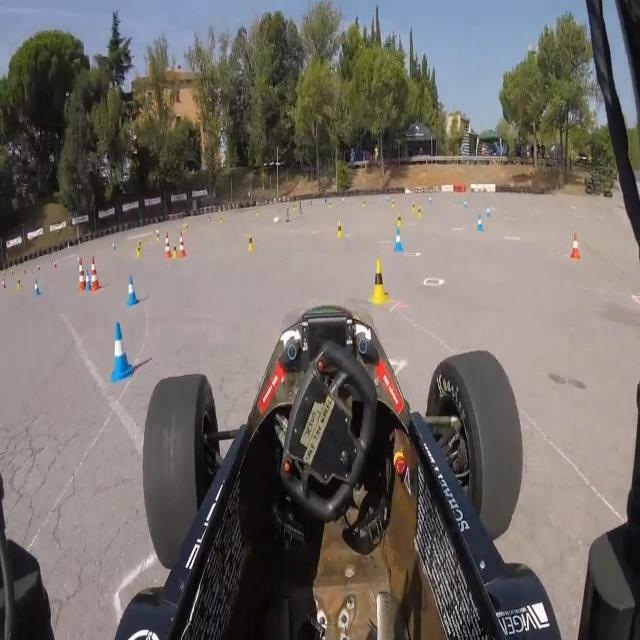blue_cone: (110, 316, 134, 382), (125, 273, 139, 307), (394, 227, 404, 254), (84, 267, 92, 293), (476, 214, 484, 234), (33, 277, 41, 297)
large_orange_cone: (77, 255, 87, 292), (90, 255, 100, 291), (178, 230, 188, 259), (163, 232, 173, 260)
orange_cone: (570, 230, 582, 261)
yellow_cone: (368, 258, 389, 305), (334, 218, 344, 242), (247, 232, 254, 253), (396, 212, 403, 228), (16, 276, 22, 292), (136, 242, 142, 257), (173, 243, 179, 257)
